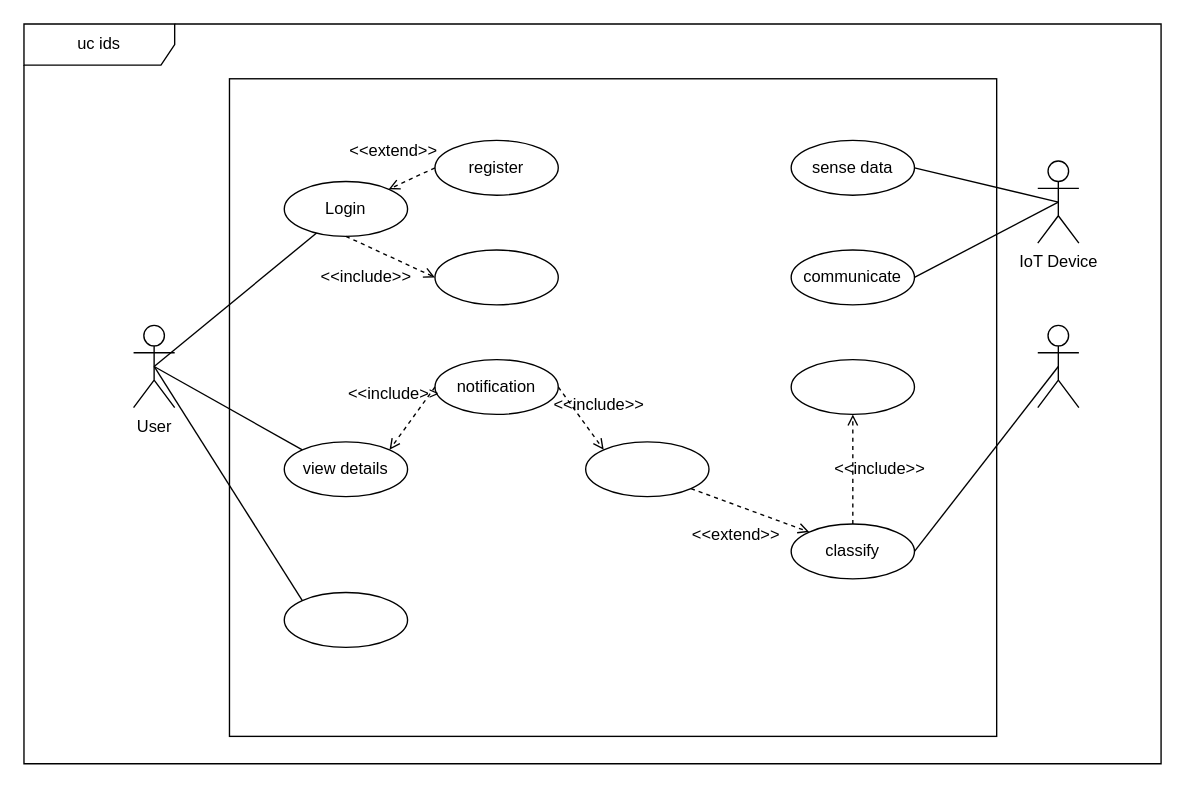
The diagram is 1185 pixels wide and 788 high, and some of its shapes have lost their labels. Each missing label, with the box of its shape:
logout: (283, 591, 408, 647)
send notification: (584, 440, 709, 497)
System: (1036, 324, 1079, 408)
use ML model: (790, 358, 914, 414)
validation: (434, 249, 558, 305)
